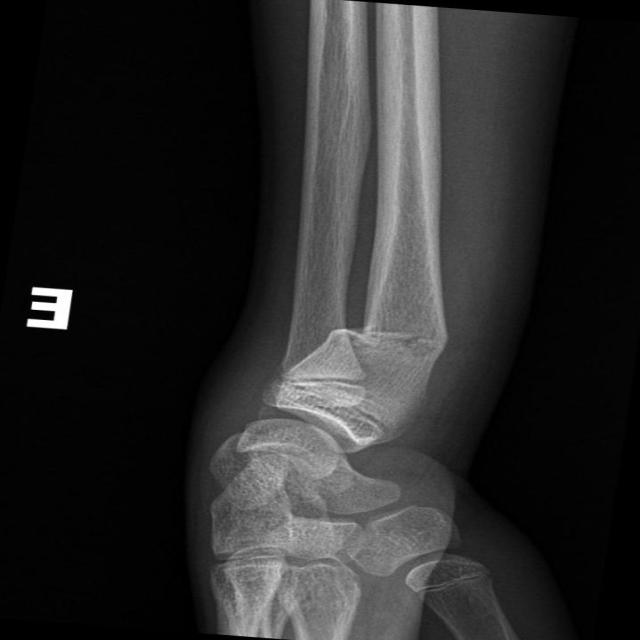Transverse Displaced: (339, 290, 479, 372)
